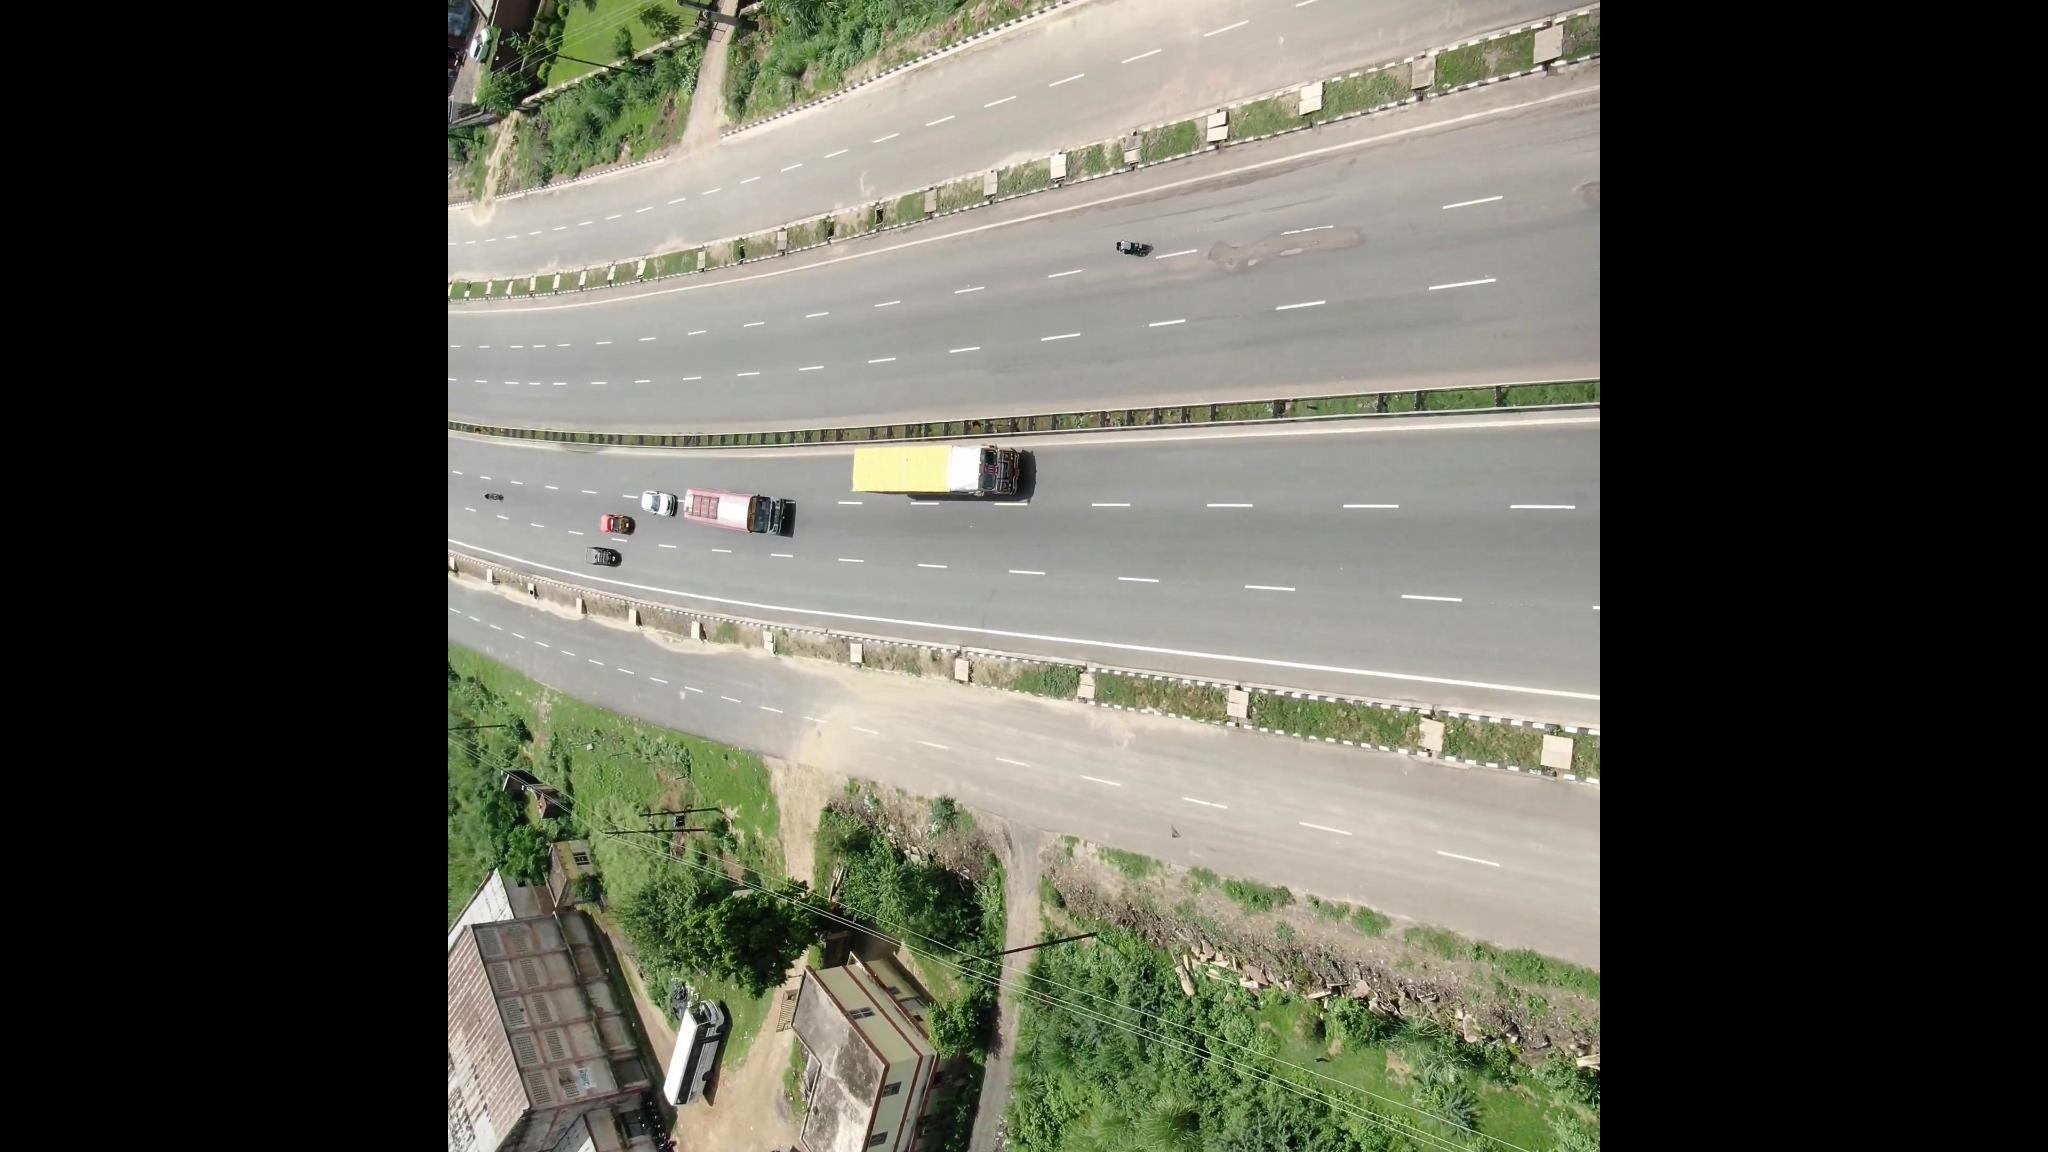Potholes: (1234, 233, 1338, 276)
